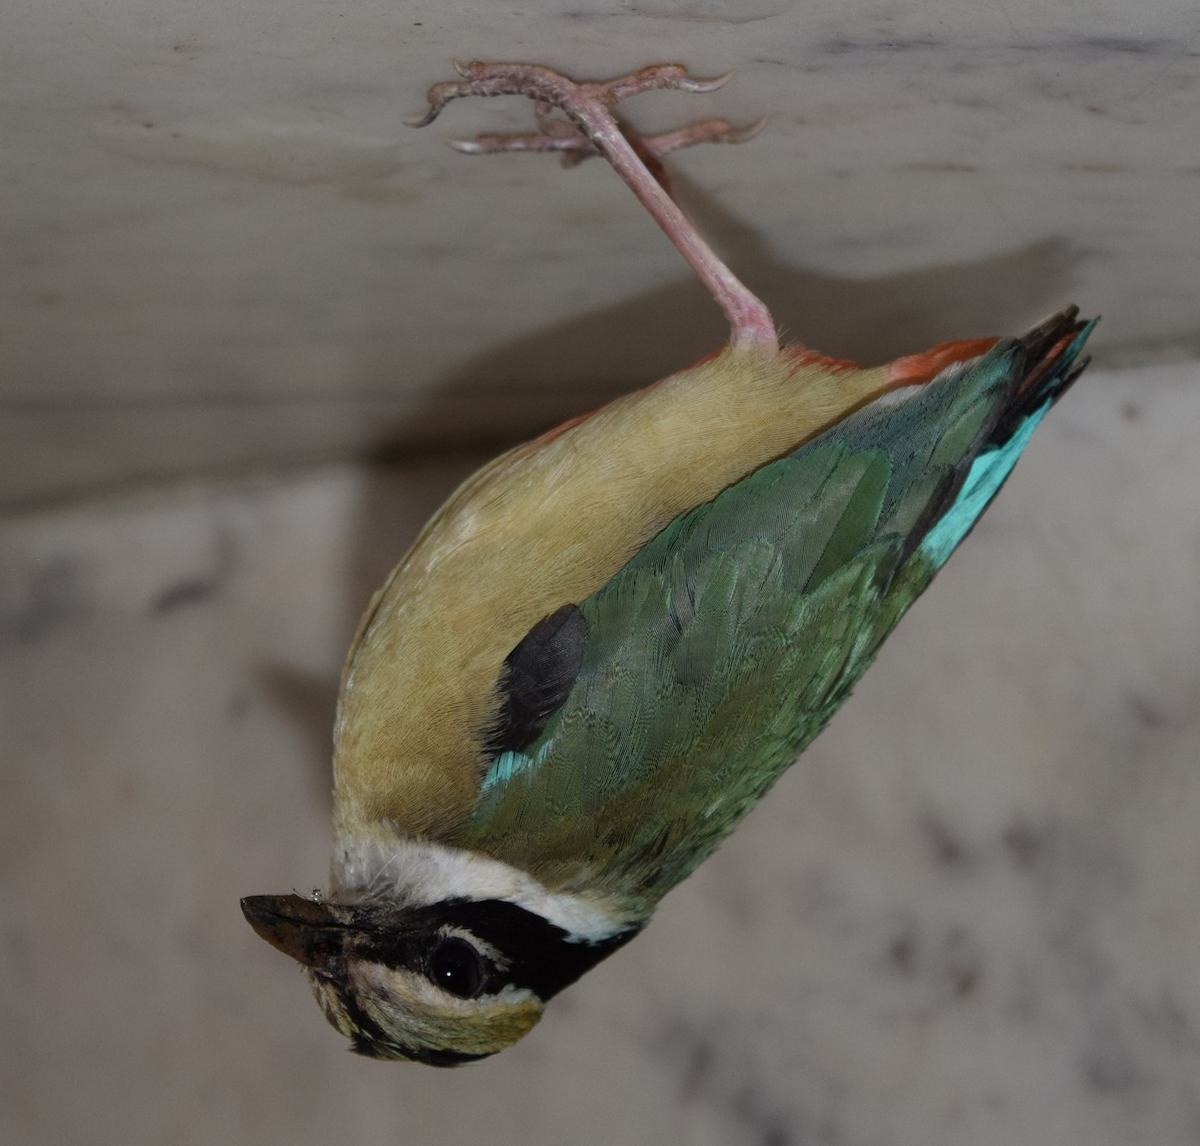pitta: (222, 100, 1046, 1120)
